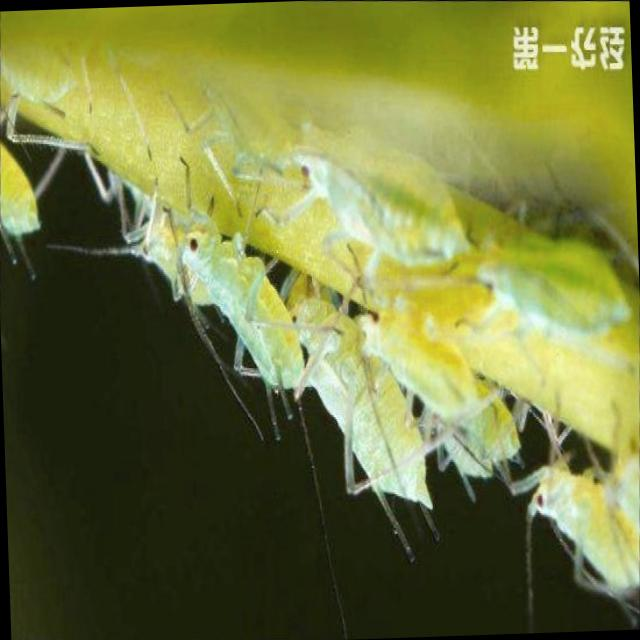aphid: (256, 242, 463, 517), (150, 151, 326, 401)
